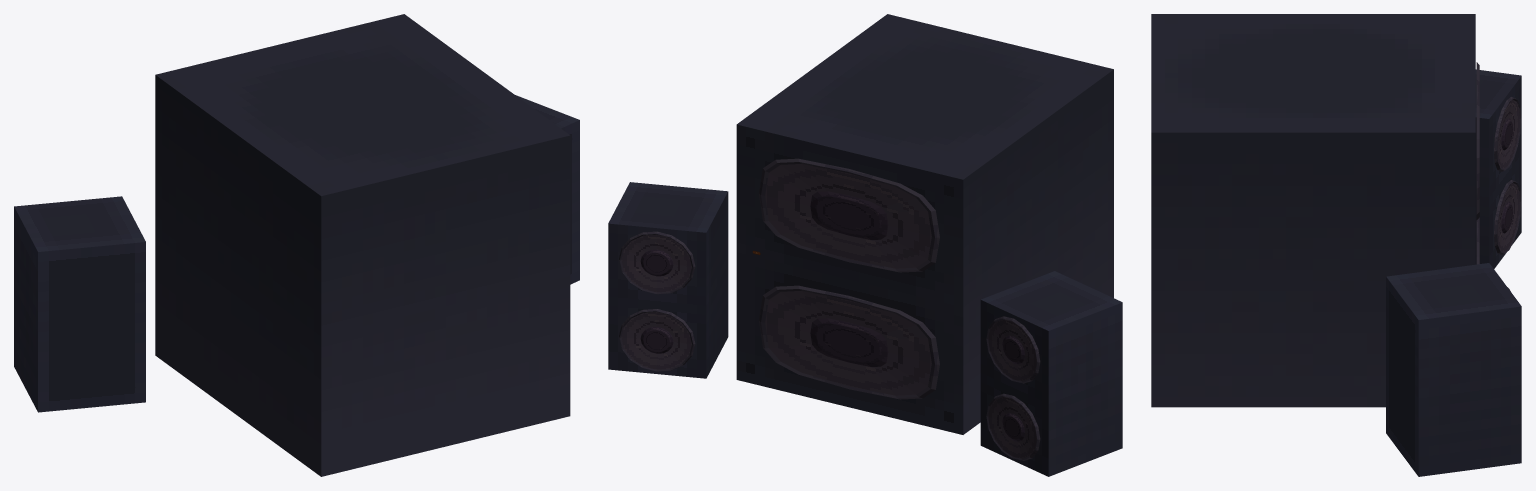
Rendered from Boomboxes.gltf.
3 renders of one model, left to right at view 1: azimuth 30°, elevation 25°; view 2: azimuth 150°, elevation 25°; view 3: azimuth 270°, elevation 25°, orthographic. The views are drawn at different scales.
Visible parts, largest first — view 1: Caixa de som meio, Caixa de som esquerda, Caixa de som direita; view 2: Caixa de som meio, Caixa de som esquerda, Caixa de som direita, Cone_meio_1, Cone_meio_0, Calota_meio_1, Calota_meio_0, Borda_meio_1, Borda_meio_0, Cone_direita_0, Cone_direita_1, Cone_esquerda_0 (+7 smaller); view 3: Caixa de som meio, Caixa de som direita, Caixa de som esquerda, Cone_esquerda_0, Cone_esquerda_1, Borda_meio_1, Borda_esquerda_0, Borda_esquerda_1.
Part boxes in pixels (x1=…): Caixa de som meio: x1=155, y1=14, x2=570, y2=476; Caixa de som esquerda: x1=14, y1=196, x2=145, y2=412; Caixa de som direita: x1=515, y1=95, x2=579, y2=284; Caixa de som meio: x1=736, y1=14, x2=1113, y2=434; Caixa de som esquerda: x1=980, y1=271, x2=1122, y2=476; Caixa de som direita: x1=608, y1=182, x2=728, y2=378; Cone_meio_1: x1=765, y1=164, x2=931, y2=268; Cone_meio_0: x1=765, y1=291, x2=931, y2=395; Calota_meio_1: x1=810, y1=191, x2=888, y2=239; Calota_meio_0: x1=810, y1=318, x2=888, y2=366; Borda_meio_1: x1=758, y1=158, x2=939, y2=272; Borda_meio_0: x1=758, y1=285, x2=939, y2=399; Cone_direita_0: x1=621, y1=312, x2=691, y2=369; Cone_direita_1: x1=621, y1=234, x2=691, y2=292; Cone_esquerda_0: x1=988, y1=397, x2=1036, y2=458; Caixa de som meio: x1=1151, y1=14, x2=1475, y2=407; Caixa de som direita: x1=1386, y1=263, x2=1521, y2=476; Caixa de som esquerda: x1=1475, y1=69, x2=1521, y2=268; Cone_esquerda_0: x1=1497, y1=183, x2=1519, y2=251; Cone_esquerda_1: x1=1497, y1=100, x2=1519, y2=168; Borda_meio_1: x1=1476, y1=62, x2=1479, y2=219; Borda_esquerda_0: x1=1494, y1=180, x2=1521, y2=254; Borda_esquerda_1: x1=1494, y1=97, x2=1521, y2=171.
Size of the model in its own units: 3.53 by 1.75 by 2.14.
6 materials, 6 textured.
